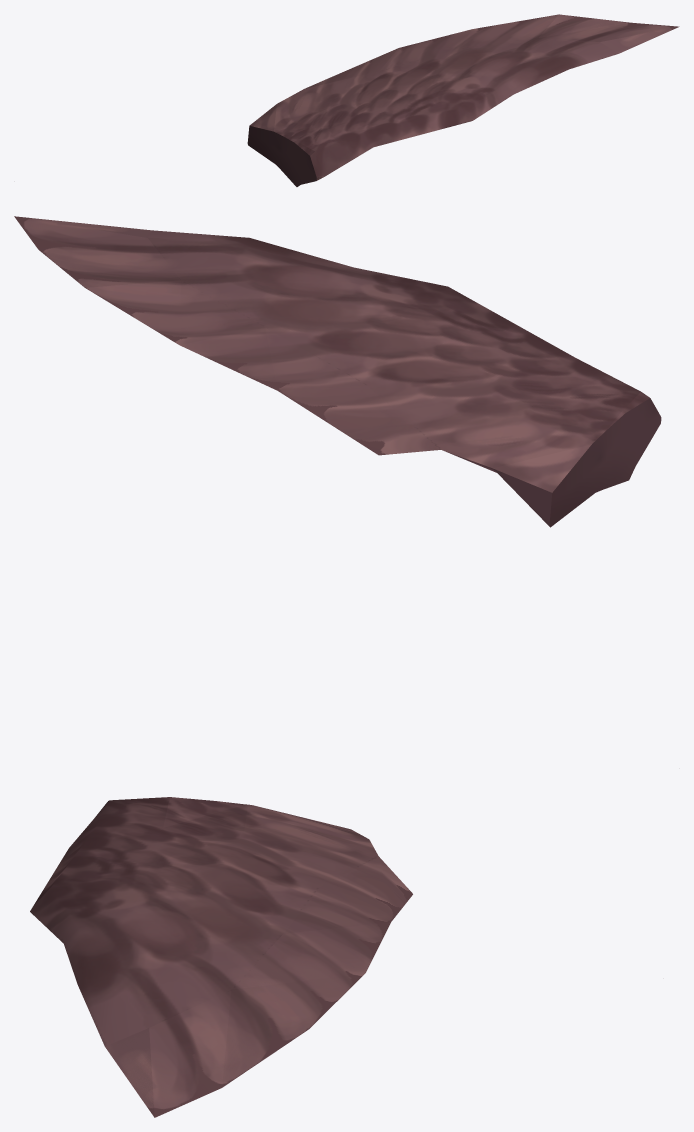
File: eaglyrightwing.fbx
3 renders of one model, top to bottom at view 1: azimuth 30°, elevation 25°; view 2: azimuth 150°, elevation 25°; view 3: azimuth 270°, elevation 25°, orthographic. The views are drawn at different scales.
Parts seen in each view (by area): view 1: Eaglle_Elite.001; view 2: Eaglle_Elite.001; view 3: Eaglle_Elite.001.
Part boxes in pixels (left/top/right/bottom): Eaglle_Elite.001: left=247, top=14, right=679, bottom=186; Eaglle_Elite.001: left=14, top=216, right=661, bottom=527; Eaglle_Elite.001: left=30, top=797, right=412, bottom=1117.
Bounding box in the file's own units: 3030 × 1323 × 5942.
